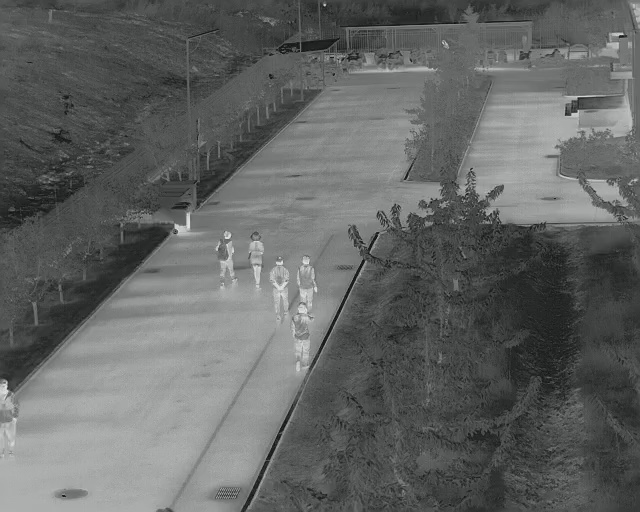person: (214, 229, 240, 291), (290, 301, 313, 371), (1, 379, 20, 462), (269, 255, 290, 324), (296, 254, 319, 309), (247, 230, 266, 292)
